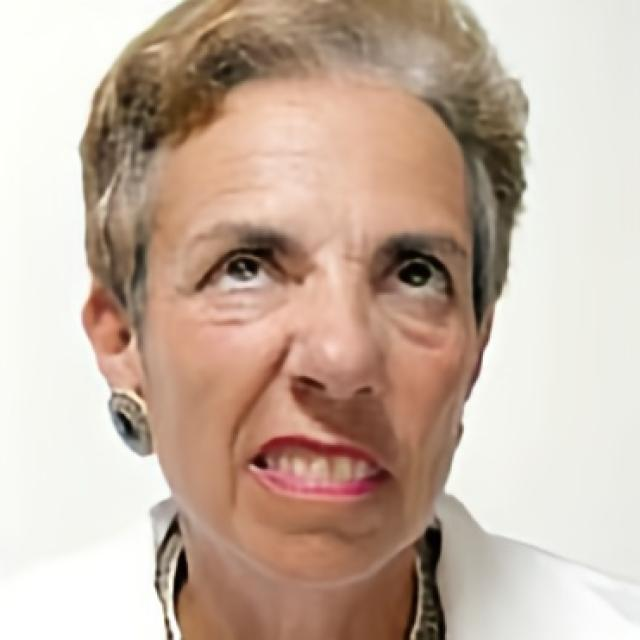disgust: (143, 71, 480, 590)
